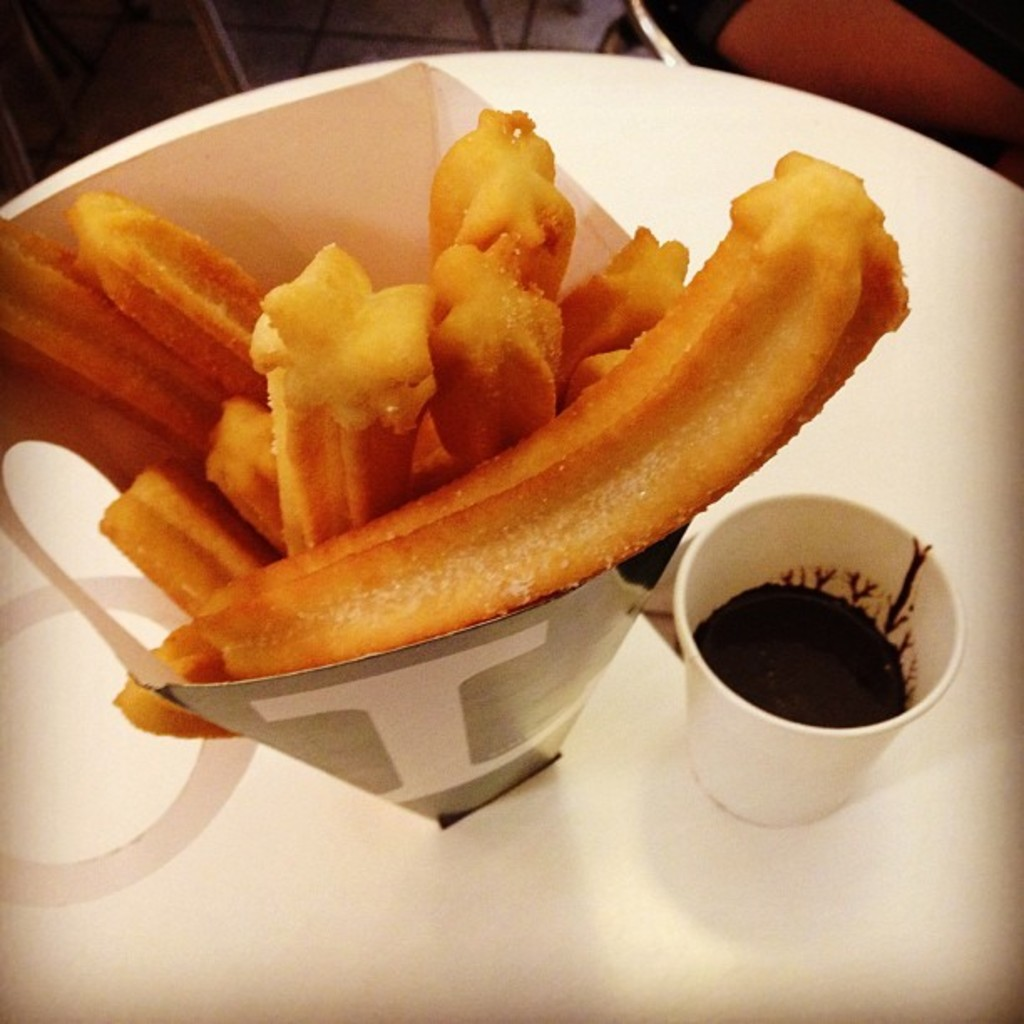French fries: (60, 168, 841, 702)
